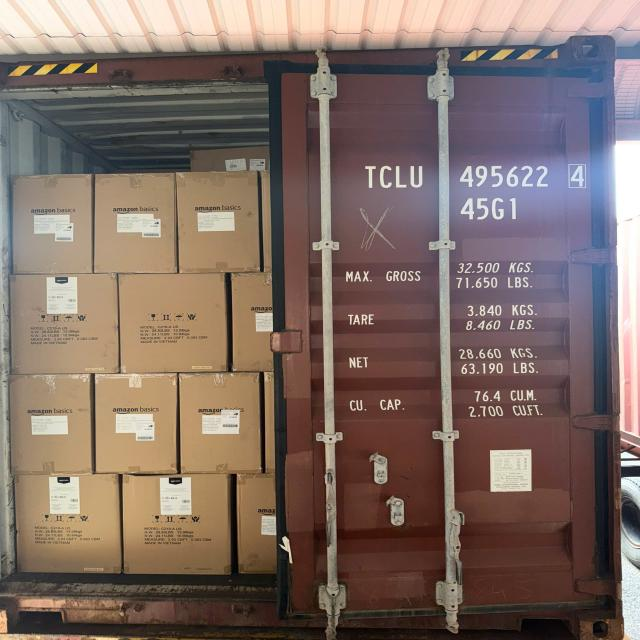Carton: (121, 475, 232, 580), (13, 471, 123, 576), (117, 272, 225, 376), (9, 271, 117, 372), (95, 370, 179, 474), (178, 372, 261, 476), (94, 172, 177, 276), (176, 170, 258, 275), (9, 373, 93, 475), (10, 174, 90, 276), (239, 475, 282, 577), (234, 274, 275, 376)
